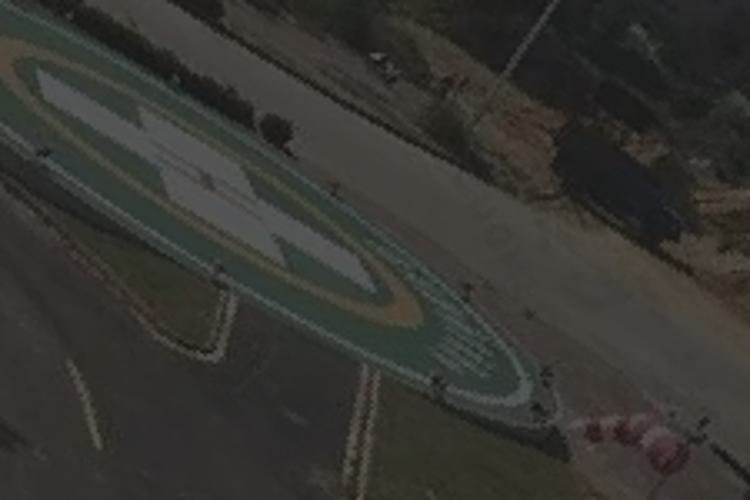Apron: (58, 62, 425, 324)
